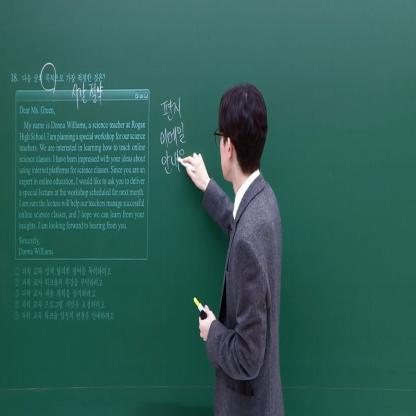streamer: (178, 83, 286, 416)
